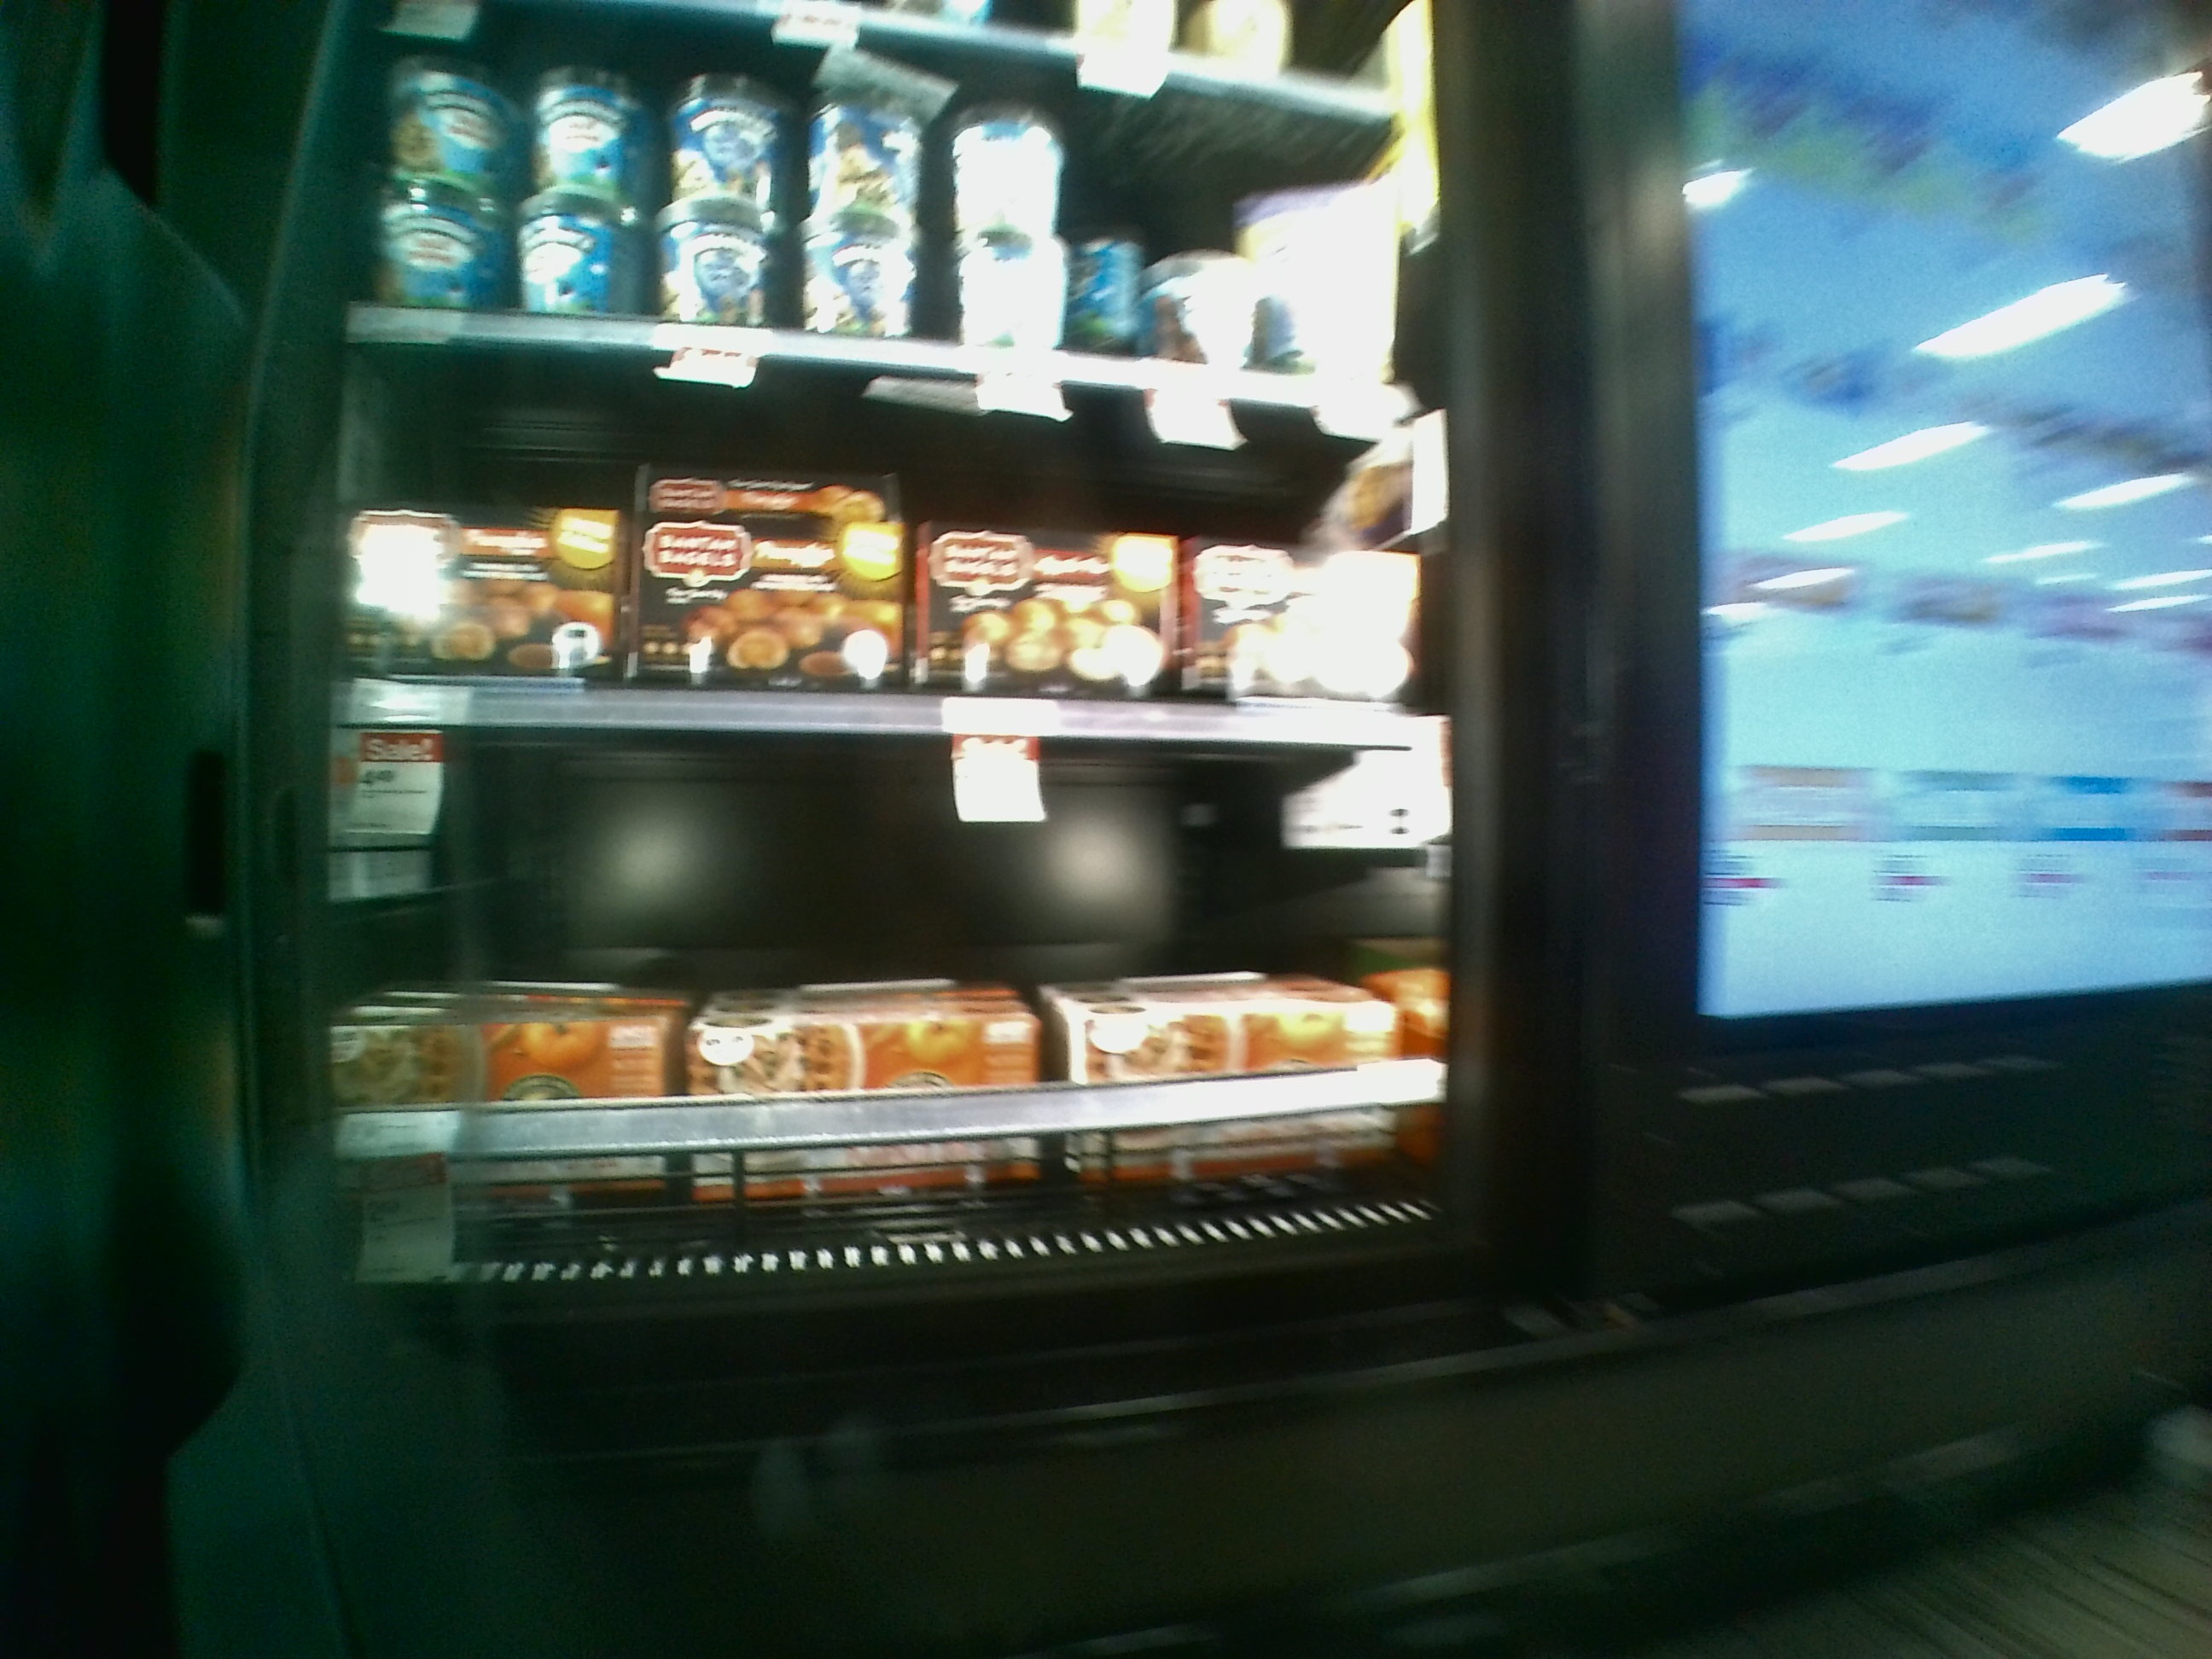shelf: (289, 704, 1474, 1286), (329, 342, 1460, 758)
